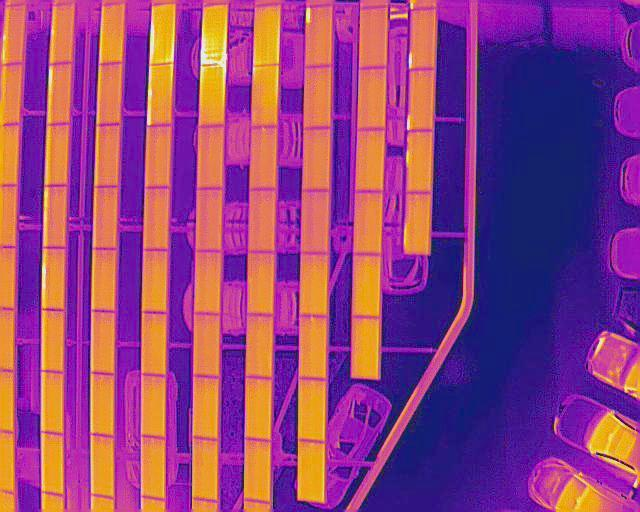Cell: (406, 131, 433, 193), (0, 4, 27, 65), (50, 3, 76, 66)
No-Anomaly: (356, 128, 386, 192), (354, 191, 384, 255), (253, 3, 282, 68), (358, 67, 387, 131), (300, 253, 329, 317), (249, 188, 277, 254), (252, 63, 280, 129), (194, 252, 223, 314), (298, 378, 327, 440), (143, 187, 171, 251), (404, 192, 432, 256), (246, 315, 274, 379), (300, 316, 328, 380), (303, 65, 331, 129), (197, 124, 224, 190), (250, 125, 277, 191), (143, 124, 171, 187), (302, 128, 330, 191), (353, 254, 381, 317), (193, 314, 221, 377), (142, 248, 169, 313), (302, 190, 330, 252), (245, 378, 273, 440), (196, 187, 223, 251), (360, 5, 387, 69), (194, 376, 220, 442), (298, 441, 326, 502), (91, 248, 118, 311), (352, 318, 380, 378), (45, 122, 70, 189), (248, 253, 275, 315), (95, 123, 121, 187), (94, 186, 120, 250), (97, 62, 123, 126), (91, 311, 117, 374), (43, 184, 68, 249), (100, 2, 126, 64), (141, 375, 166, 439), (142, 311, 167, 374), (246, 440, 271, 502), (91, 434, 115, 497), (0, 64, 24, 127), (141, 437, 165, 500), (91, 373, 115, 435), (194, 439, 218, 501), (41, 309, 64, 373), (41, 371, 64, 434), (42, 435, 64, 496)
Unclassified: (305, 5, 333, 68), (198, 65, 226, 128), (201, 4, 229, 66), (409, 8, 437, 70), (407, 68, 435, 130), (147, 63, 173, 127), (150, 4, 176, 66), (42, 247, 66, 312), (47, 62, 72, 124)
